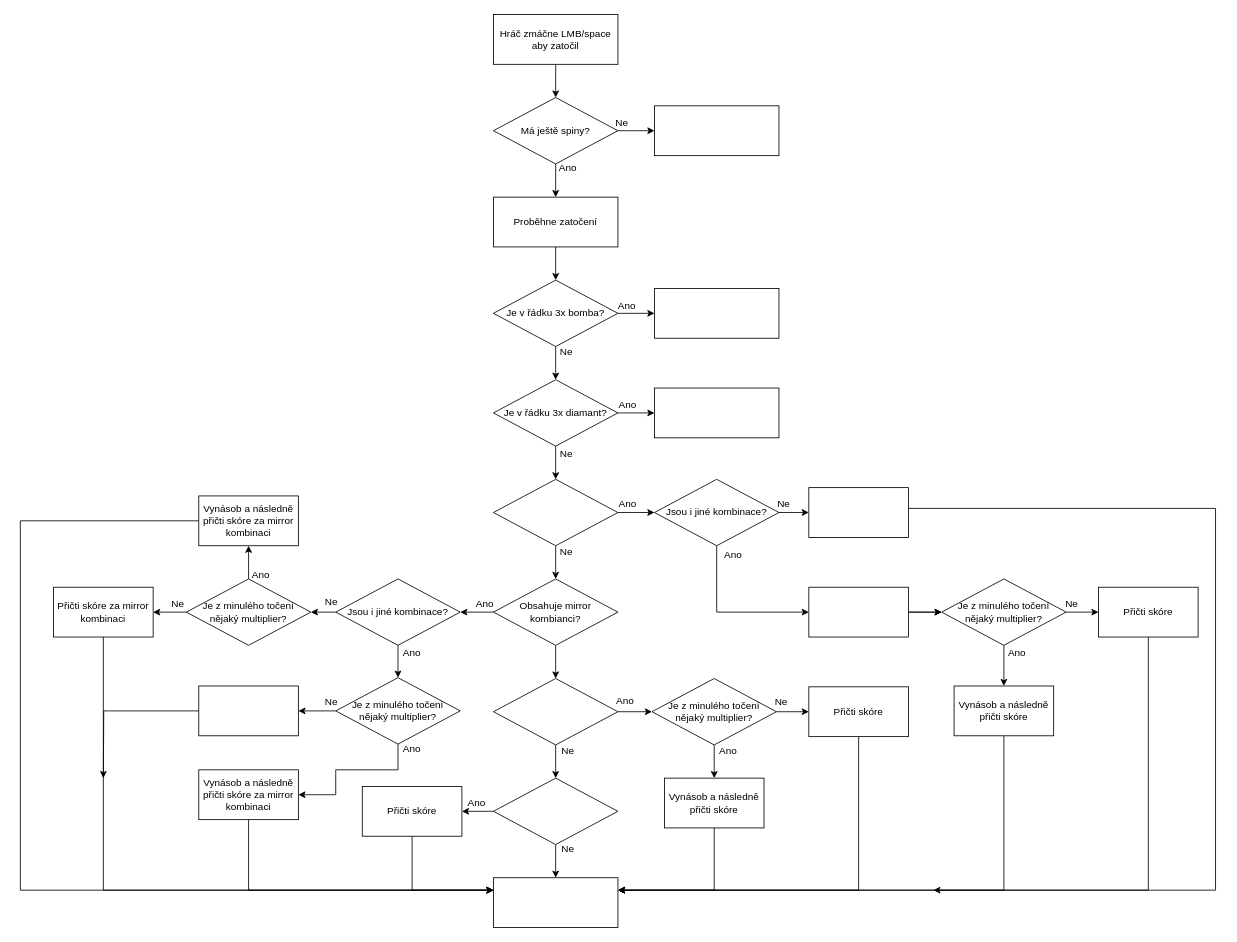
This 1237x942 diagram has some shape labels left out. Each missing label, with the box of its shape:
Je v řádku 3x reroll?: (493, 478, 618, 546)
Konec hry: (654, 105, 779, 156)
Nastav multiplier a čekej na další input: (654, 387, 779, 438)
Nastav penalizaci a čekej na další input: (654, 288, 779, 338)
Obsahuje nějaké jackpoty?: (493, 678, 618, 745)
Obsahuje nějaké páry?: (493, 777, 618, 845)
Přičti spiny za reroll: (808, 487, 908, 537)
Přičti všechny spiny: (808, 586, 908, 637)
Sečti a přičti skóre za všechny kombinace: (198, 685, 298, 736)
Čekej na další input (zahájení nového zatočení): (493, 877, 618, 928)
